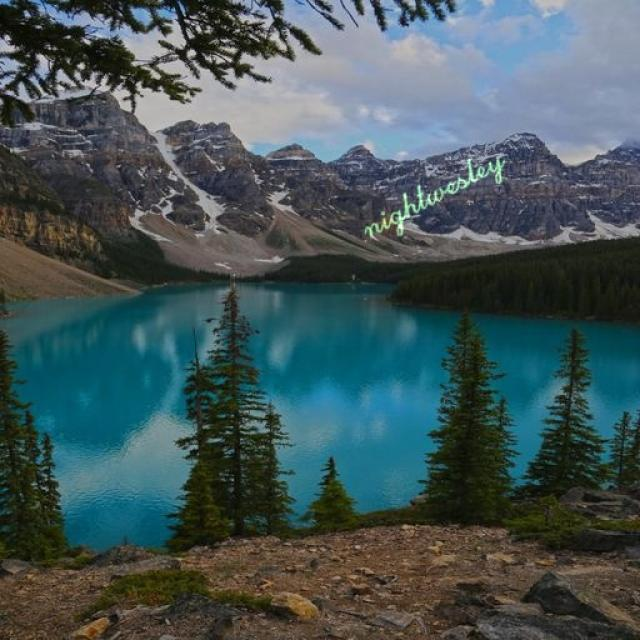watermark: (359, 138, 505, 244)
